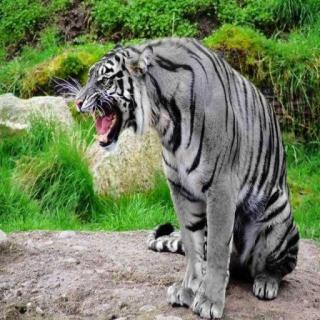Tiger: (79, 13, 310, 320)
